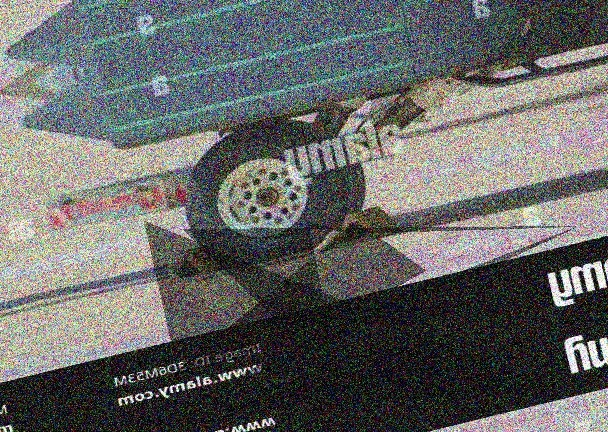chock: (162, 239, 236, 288), (328, 202, 402, 248)
wheel: (170, 102, 378, 275)
